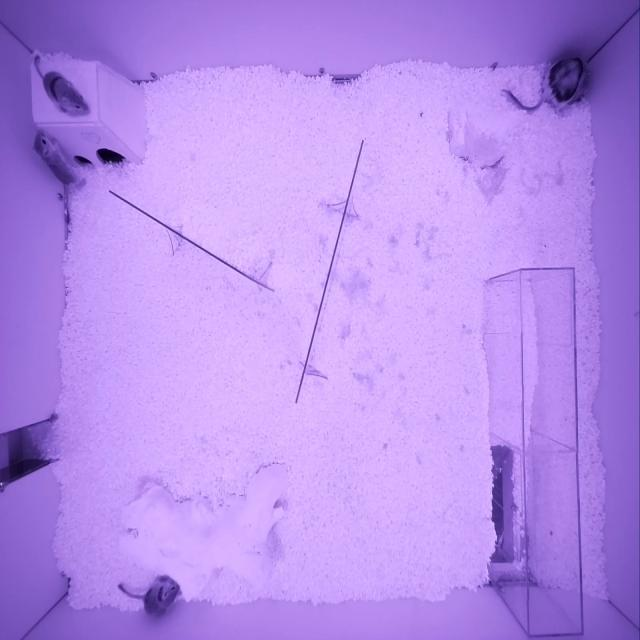adult_back: (542, 56, 590, 116)
pup_fluffy: (32, 128, 86, 190)
pup_h_stripe: (43, 70, 89, 113)
pup_spotted: (143, 575, 182, 619)
